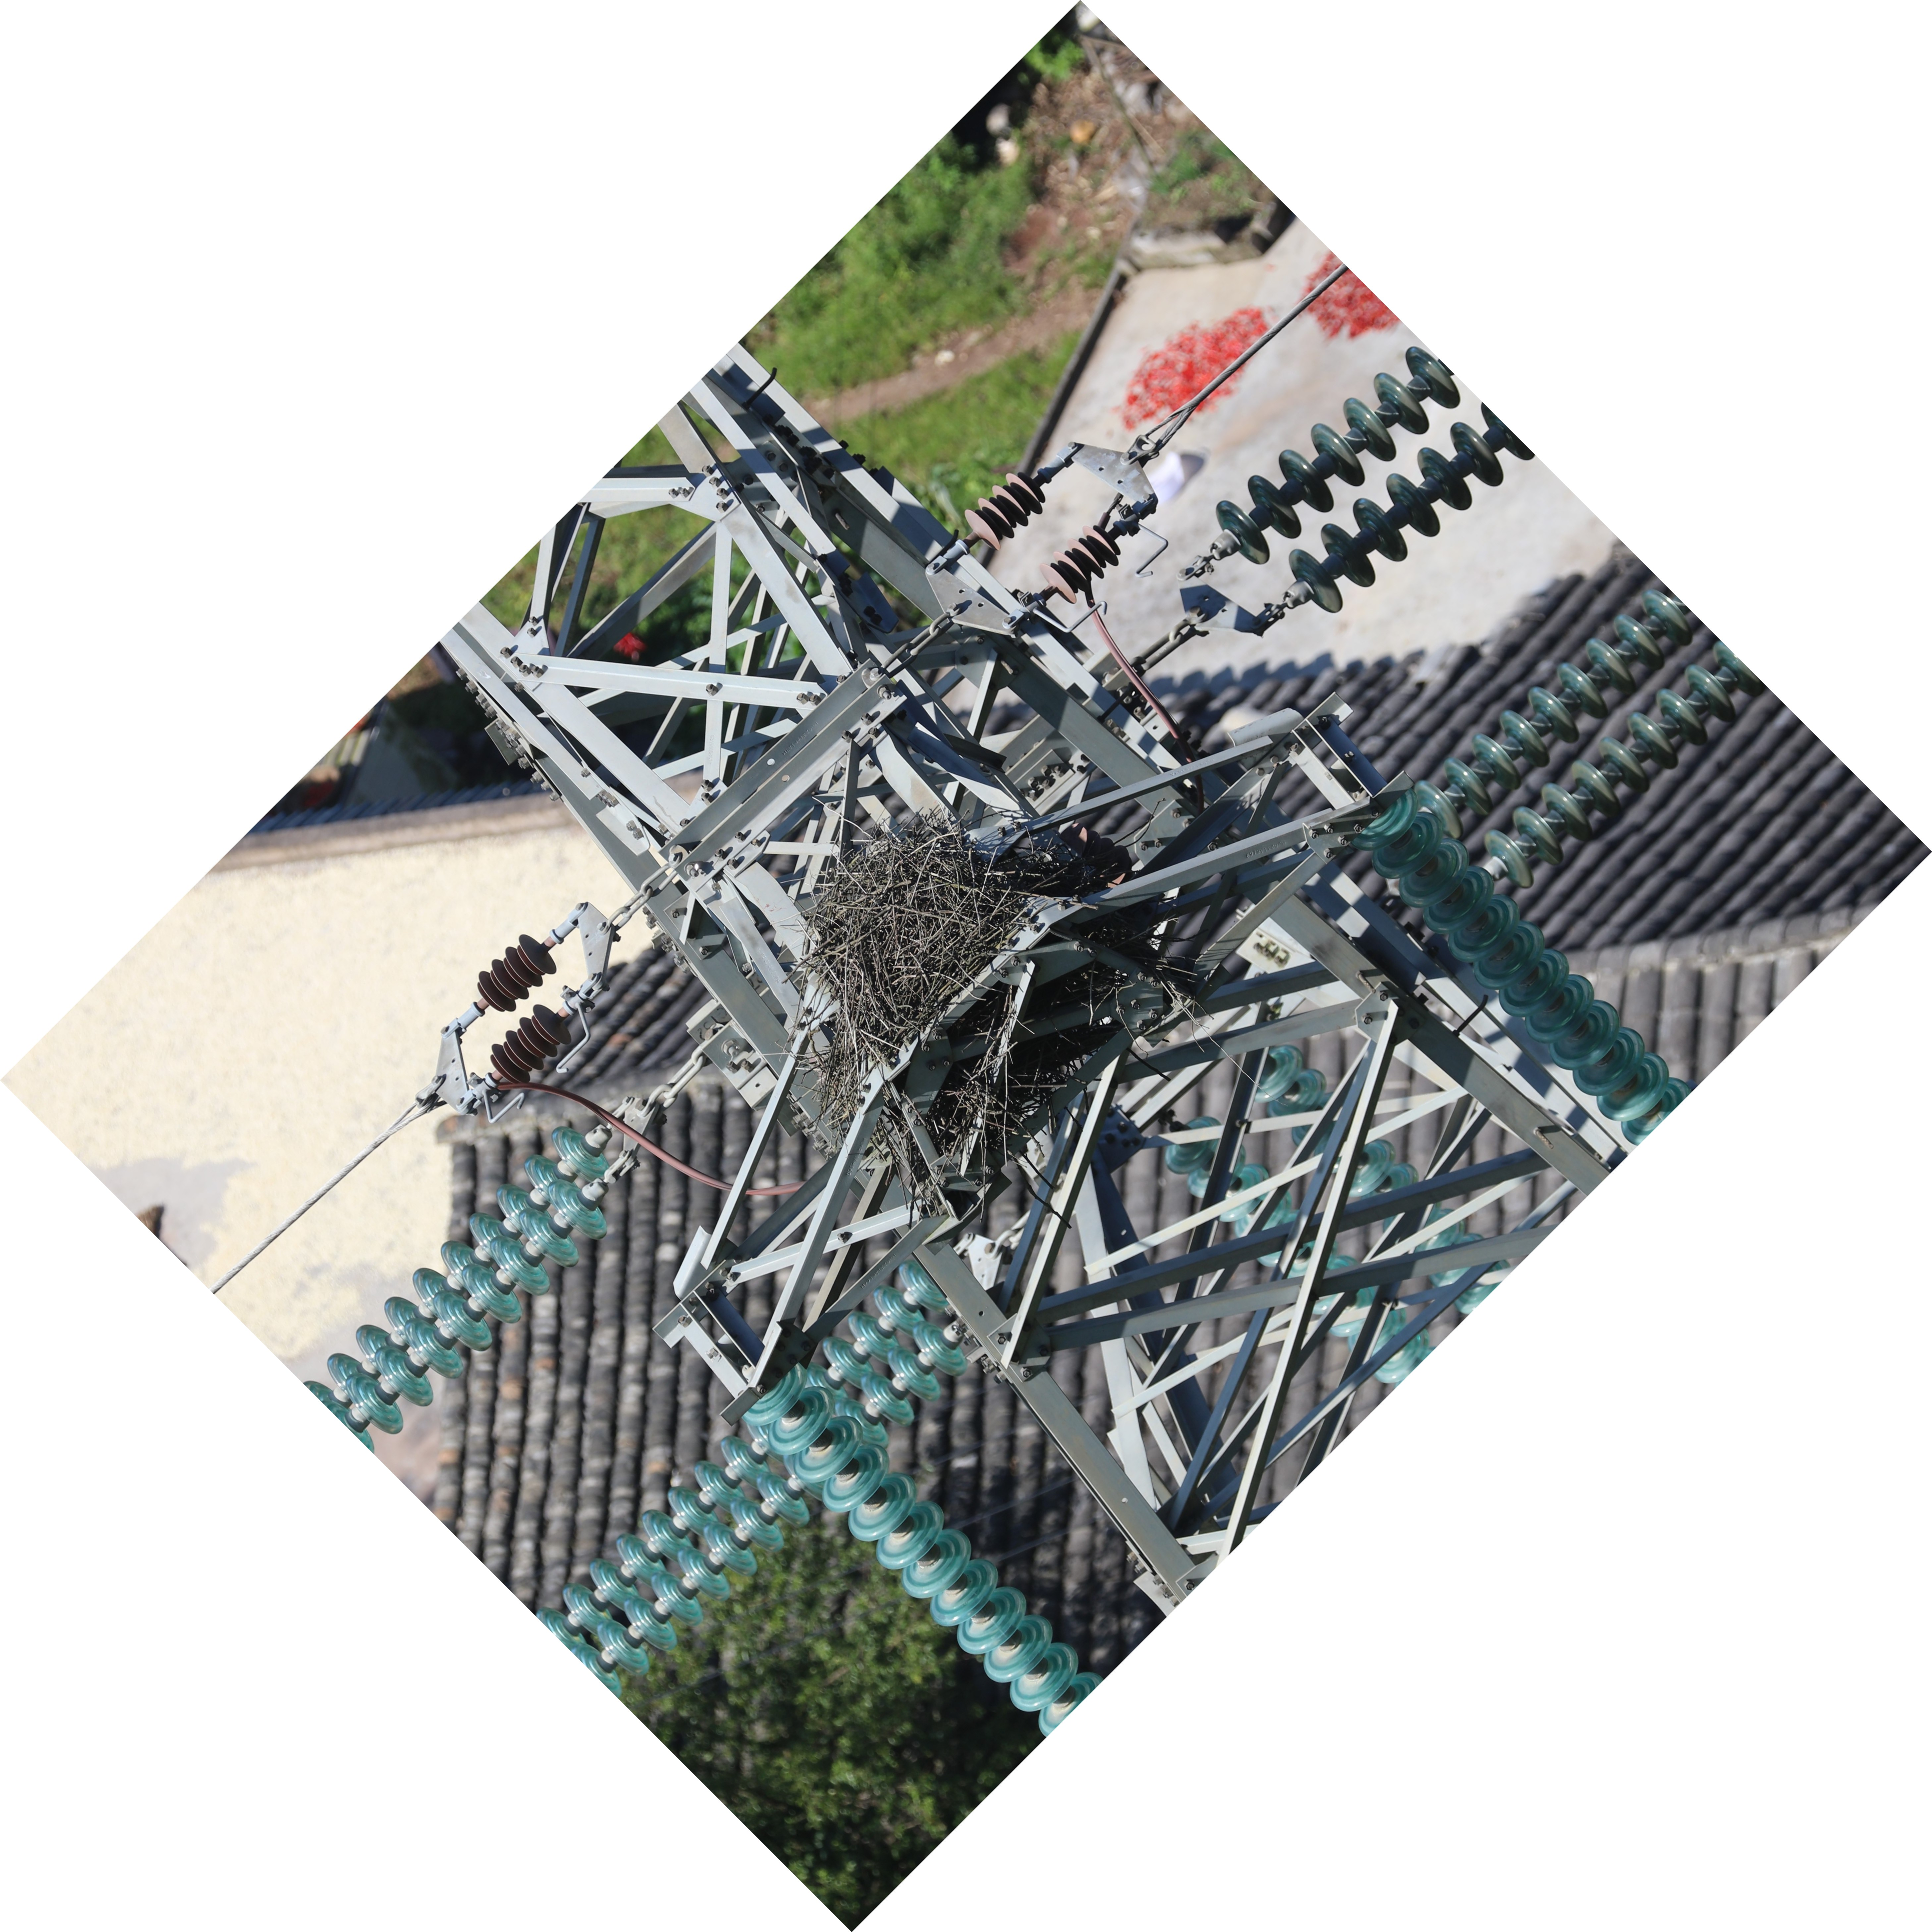niaowo: (754, 786, 1180, 1219)
